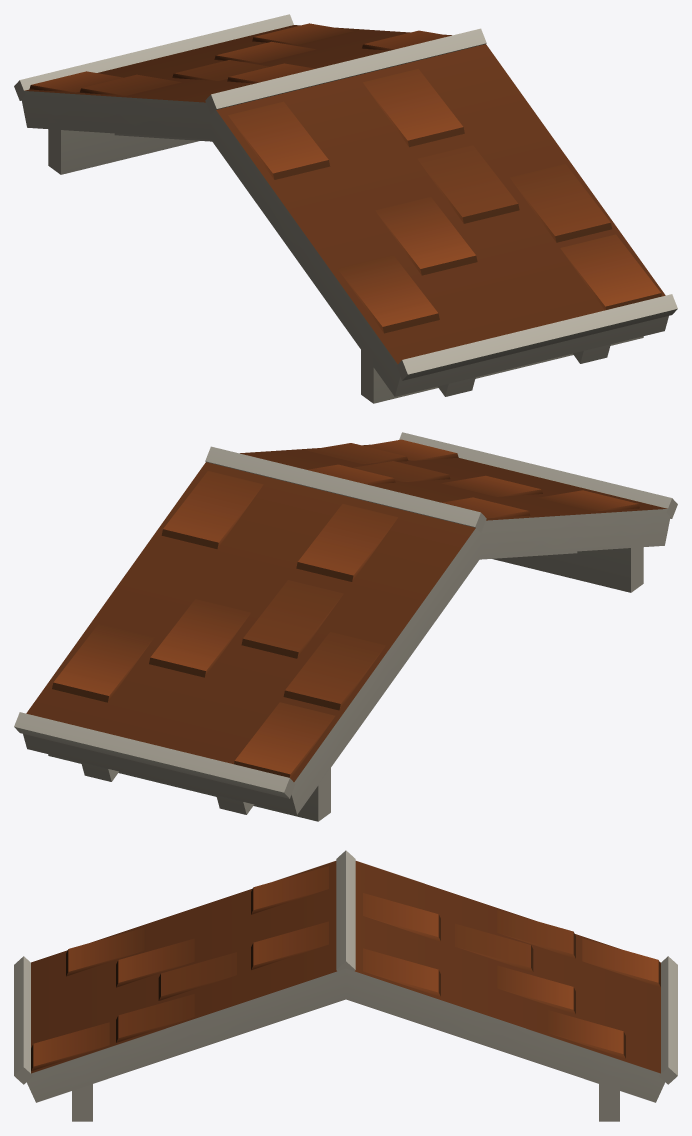
Rendered from TSP_House_Roof_03C_2.fbx.
The picture shows the model from 3 angles, top to bottom: view 1: azimuth 30°, elevation 25°; view 2: azimuth 150°, elevation 25°; view 3: azimuth 270°, elevation 25°; orthographic projection. The views are drawn at different scales.
Parts seen in each view (by area): view 1: TSP_House_Roof_03C_2; view 2: TSP_House_Roof_03C_2; view 3: TSP_House_Roof_03C_2.
Part boxes in pixels (x1,y1,x2,y2): TSP_House_Roof_03C_2: (14,14,677,403); TSP_House_Roof_03C_2: (14,432,677,821); TSP_House_Roof_03C_2: (14,850,677,1121).
Bounding box in the file's own units: 2 × 1.35 × 5.05.
